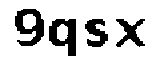9: (12, 5, 45, 52)
q: (46, 18, 80, 60)
s: (81, 18, 110, 52)
x: (114, 18, 148, 52)
